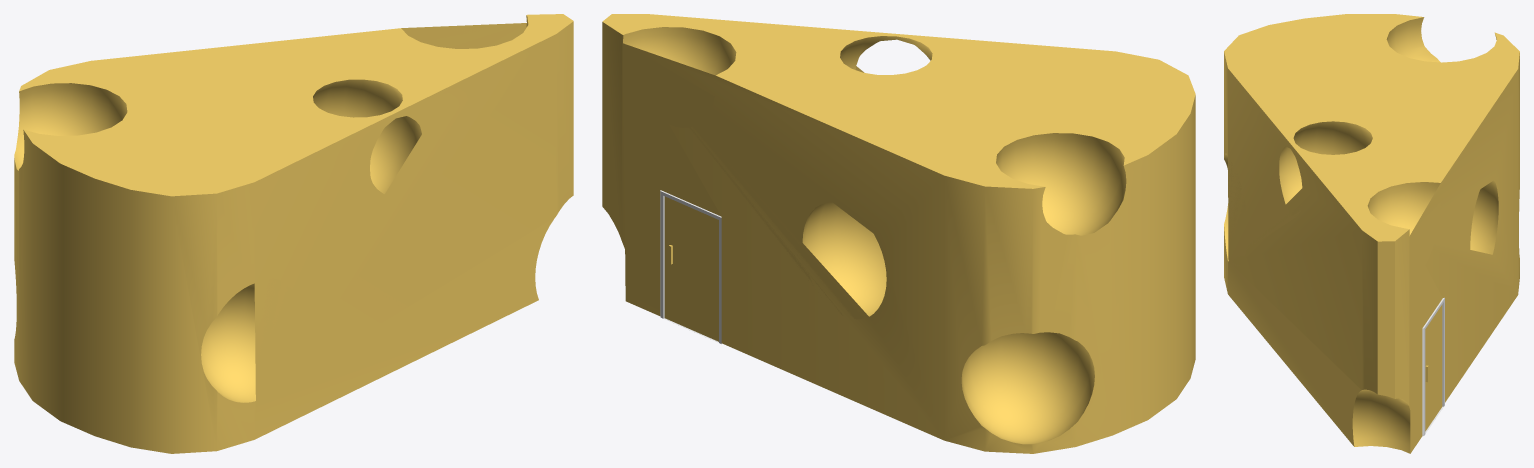
The model's file is housechesse.fbx.
The picture shows the model from 3 angles, left to right: view 1: azimuth 30°, elevation 25°; view 2: azimuth 150°, elevation 25°; view 3: azimuth 270°, elevation 25°; orthographic projection. The views are drawn at different scales.
Parts seen in each view (by area): view 1: housechesse; view 2: housechesse; view 3: housechesse.
Boxes of the visible parts, <box> form: housechesse: <box>14,14,573,453</box>; housechesse: <box>602,14,1195,453</box>; housechesse: <box>1224,14,1519,453</box>.
Bounding box in the file's own units: 688 × 319 × 378.
